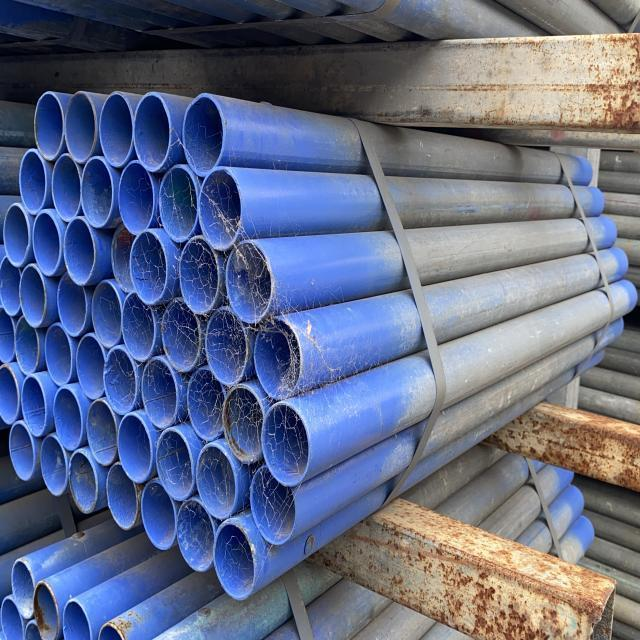pipe: (261, 401, 311, 485), (255, 317, 303, 401), (226, 241, 275, 323), (251, 464, 299, 545), (199, 167, 243, 252), (184, 96, 229, 179), (224, 386, 268, 465), (213, 519, 256, 599), (204, 307, 247, 386), (179, 233, 219, 313), (158, 165, 199, 243), (196, 444, 237, 522), (134, 92, 172, 171), (177, 499, 217, 574), (162, 301, 202, 375), (189, 369, 229, 443), (156, 427, 196, 500), (118, 159, 156, 235), (130, 228, 168, 303), (99, 94, 135, 171), (143, 360, 181, 432), (141, 478, 178, 551), (117, 414, 154, 485), (122, 295, 158, 366), (64, 93, 98, 166), (106, 348, 140, 420), (106, 464, 140, 533), (63, 220, 96, 291), (85, 399, 119, 467), (81, 156, 113, 228), (51, 152, 82, 222), (92, 280, 123, 349), (76, 333, 107, 402), (70, 450, 102, 516), (35, 212, 66, 279), (35, 93, 65, 161), (59, 273, 89, 339), (54, 385, 84, 449), (19, 149, 48, 215), (19, 261, 48, 326), (47, 324, 76, 389), (40, 433, 70, 495), (9, 420, 37, 483), (21, 375, 49, 438), (4, 202, 31, 267), (111, 224, 136, 294), (33, 579, 61, 640), (12, 316, 39, 375), (11, 557, 36, 620), (0, 363, 24, 424), (1, 260, 24, 321), (63, 597, 91, 640), (0, 594, 23, 640), (0, 306, 16, 363), (99, 622, 128, 640), (26, 619, 48, 640)
